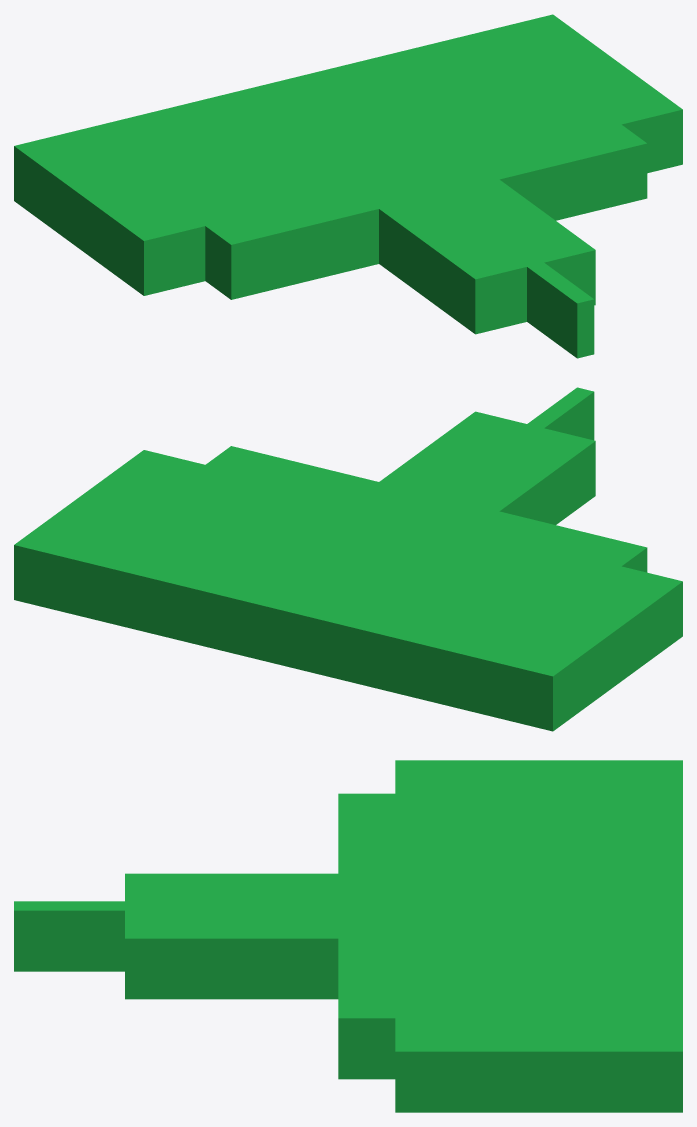
File: Ship.fbx
The picture shows the model from 3 angles, top to bottom: view 1: azimuth 30°, elevation 25°; view 2: azimuth 150°, elevation 25°; view 3: azimuth 270°, elevation 25°; orthographic projection. The views are drawn at different scales.
Parts seen in each view (by area): view 1: node_id8 (×4); view 2: node_id8 (×4); view 3: node_id8 (×4).
Boxes of the visible parts, box(x1,y1,x2,y2) form: node_id8 (×4): box(14, 14, 682, 358); node_id8 (×4): box(14, 387, 682, 731); node_id8 (×4): box(14, 760, 682, 1112).
Bounding box in the file's own units: 0.512 × 0.05 × 0.4972.
